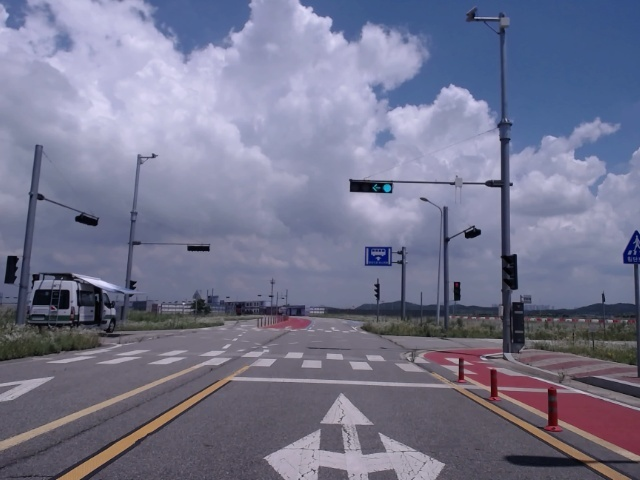all_green_4: (350, 180, 394, 194)
